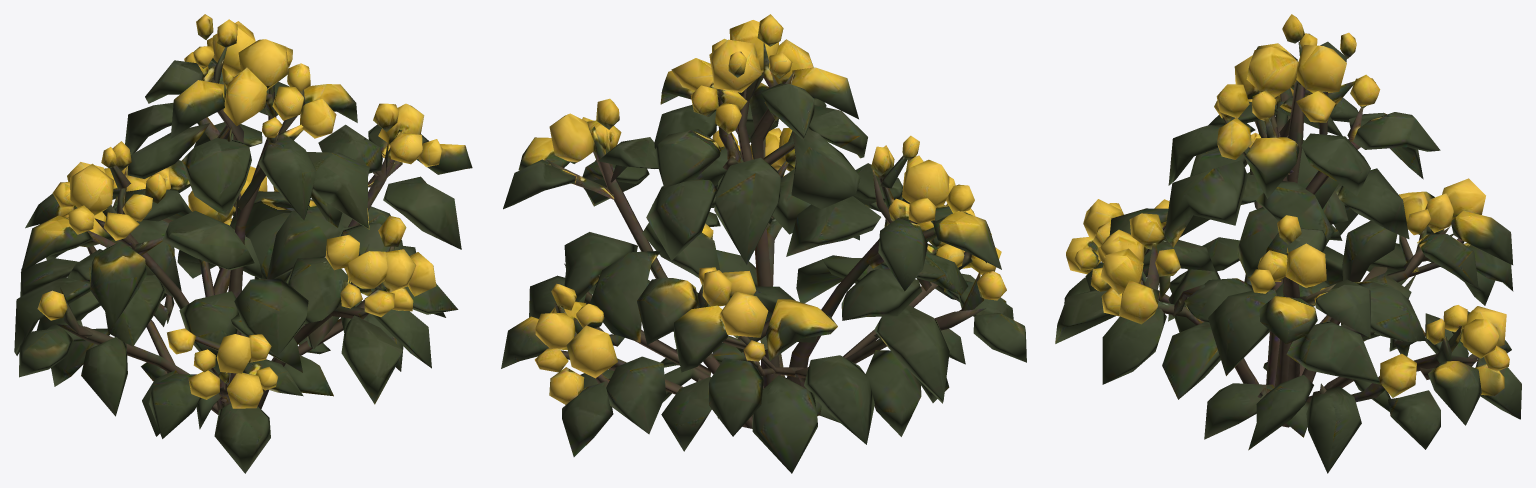
File: prop_tree_bush.glb
3 views of the same model, side by side, from view 1: azimuth 30°, elevation 25°; view 2: azimuth 150°, elevation 25°; view 3: azimuth 270°, elevation 25° (orthographic). The views are drawn at different scales.
Parts seen in each view (by area): view 1: PropTreeBushMesh; view 2: PropTreeBushMesh; view 3: PropTreeBushMesh.
Part boxes in pixels (left/top/right/bottom): PropTreeBushMesh: left=14, top=14, right=472, bottom=473; PropTreeBushMesh: left=501, top=14, right=1026, bottom=473; PropTreeBushMesh: left=1055, top=14, right=1521, bottom=473.
Size of the model in its own units: 2 by 1.61 by 1.69.
Materials: 1 (1 with a texture image).
